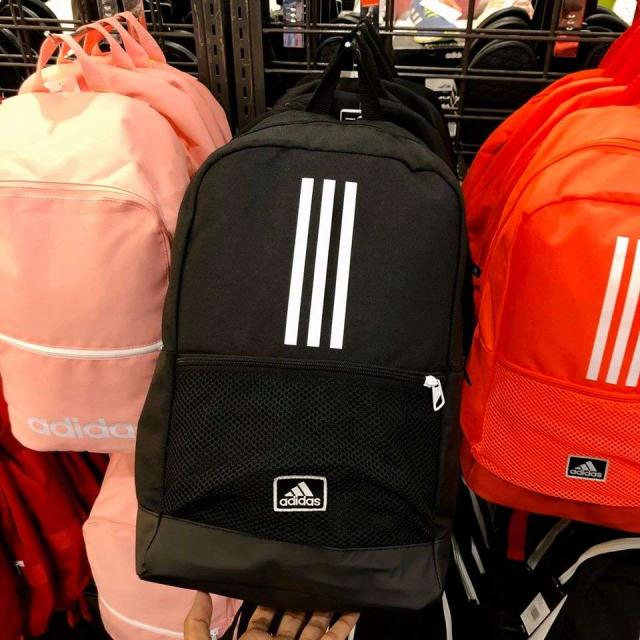Handbag: (130, 108, 472, 610)
